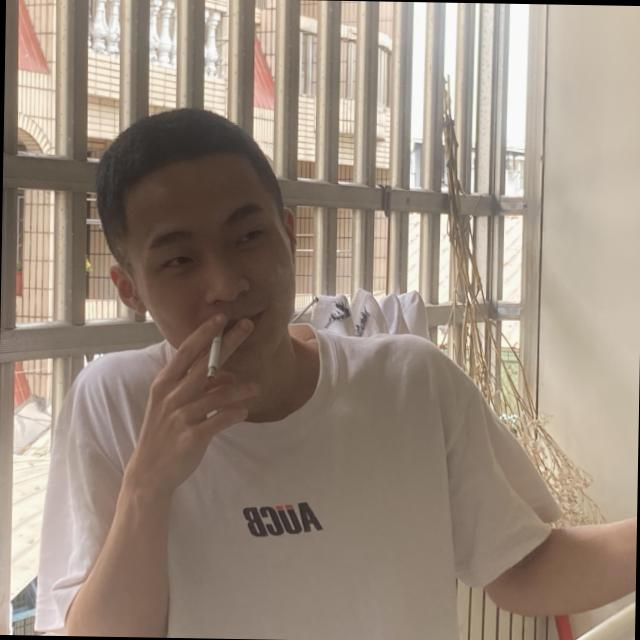smoke: (184, 316, 234, 406)
